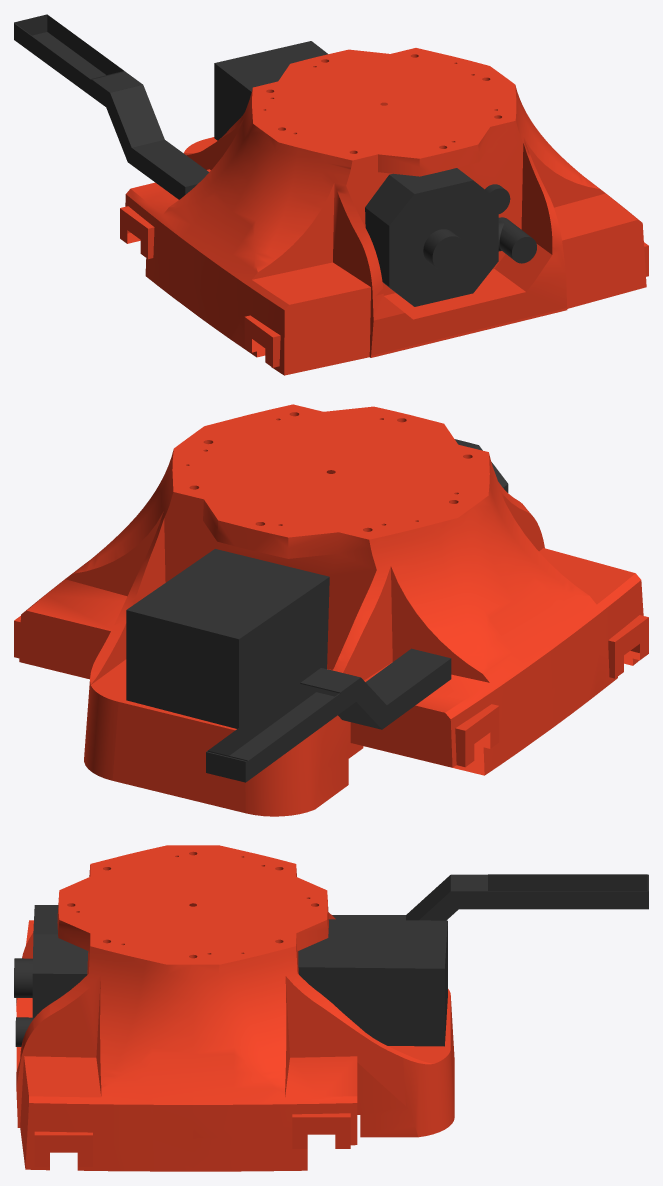
The picture shows the model from 3 angles, top to bottom: view 1: azimuth 30°, elevation 25°; view 2: azimuth 150°, elevation 25°; view 3: azimuth 270°, elevation 25°; orthographic projection. The views are drawn at different scales.
Parts seen in each view (by area): view 1: link_1; view 2: link_1; view 3: link_1.
Part boxes in pixels (x1,y1,x2,y2): link_1: [14, 14, 648, 375]; link_1: [14, 404, 648, 816]; link_1: [14, 845, 648, 1171].
Size of the model in its own units: 0.4528 by 0.6409 by 0.205.
